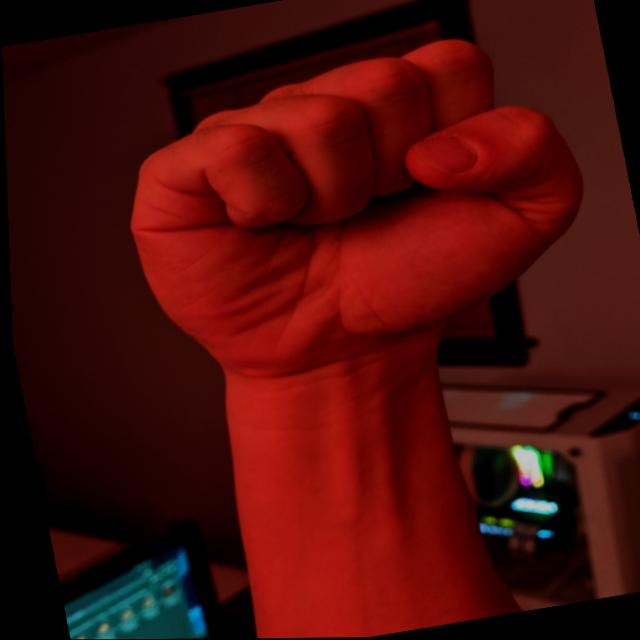S: (91, 11, 622, 403)
